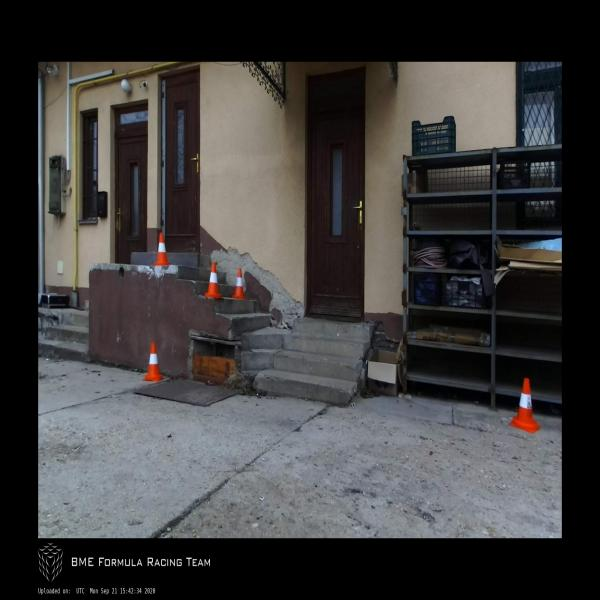orange_cone: (510, 378, 541, 432), (144, 342, 164, 382), (204, 263, 222, 297), (154, 233, 169, 264), (232, 268, 247, 298)
